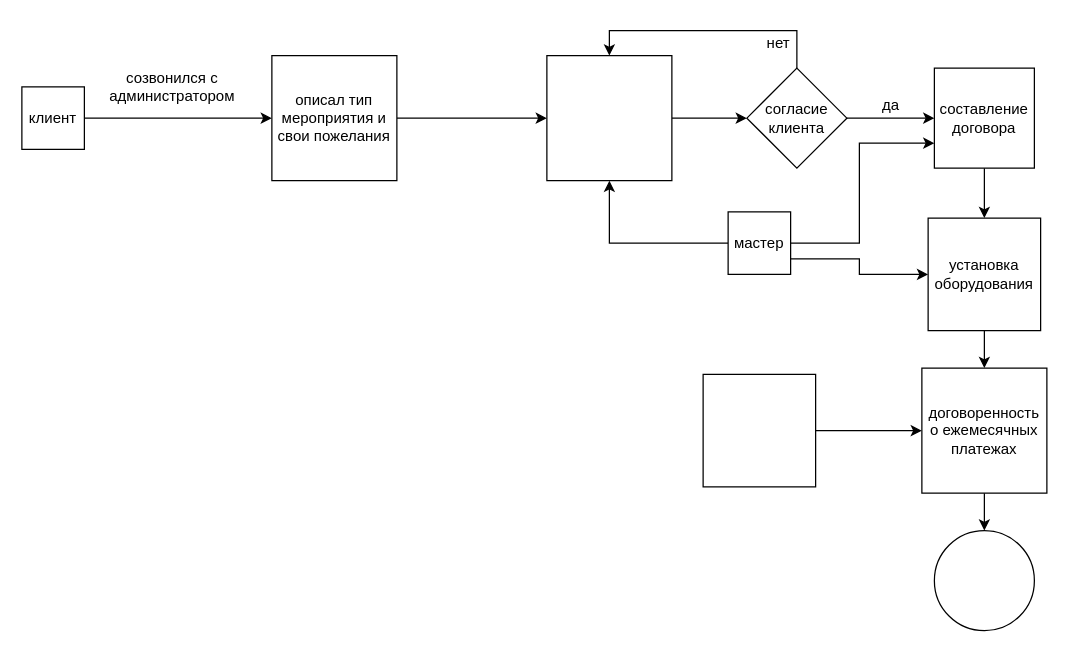
Image size: 1069x653. Some labels were removed from this diagram. Each missing label, with the centre of its shape:
"администратор" belongs at [759,430].
"осмотр помещения и составления списка оборудования" belongs at [609,117].
"получение прибыли" belongs at [983,580].
